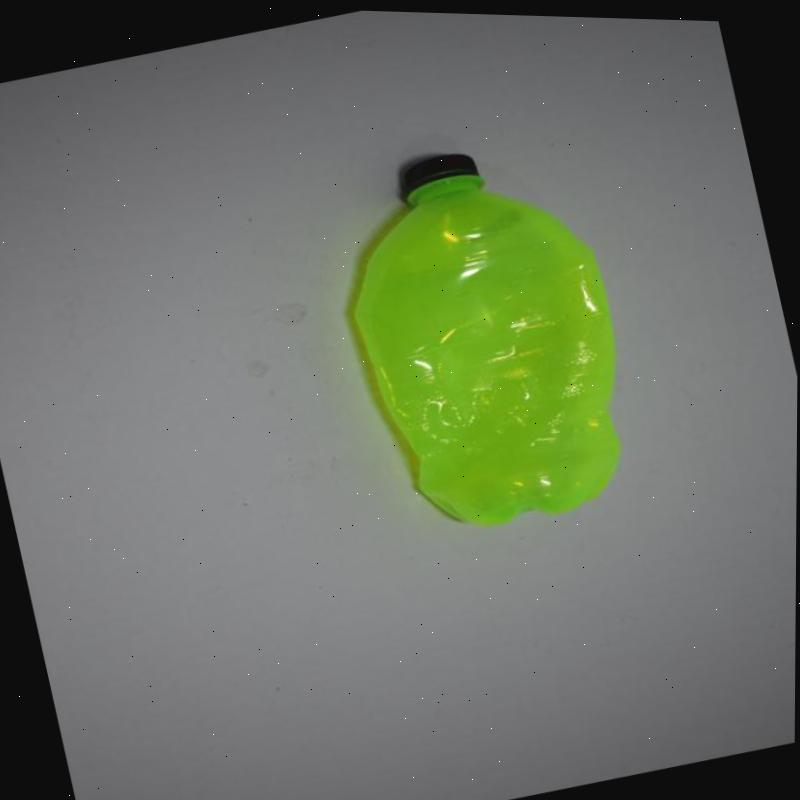botella: (313, 114, 660, 547)
